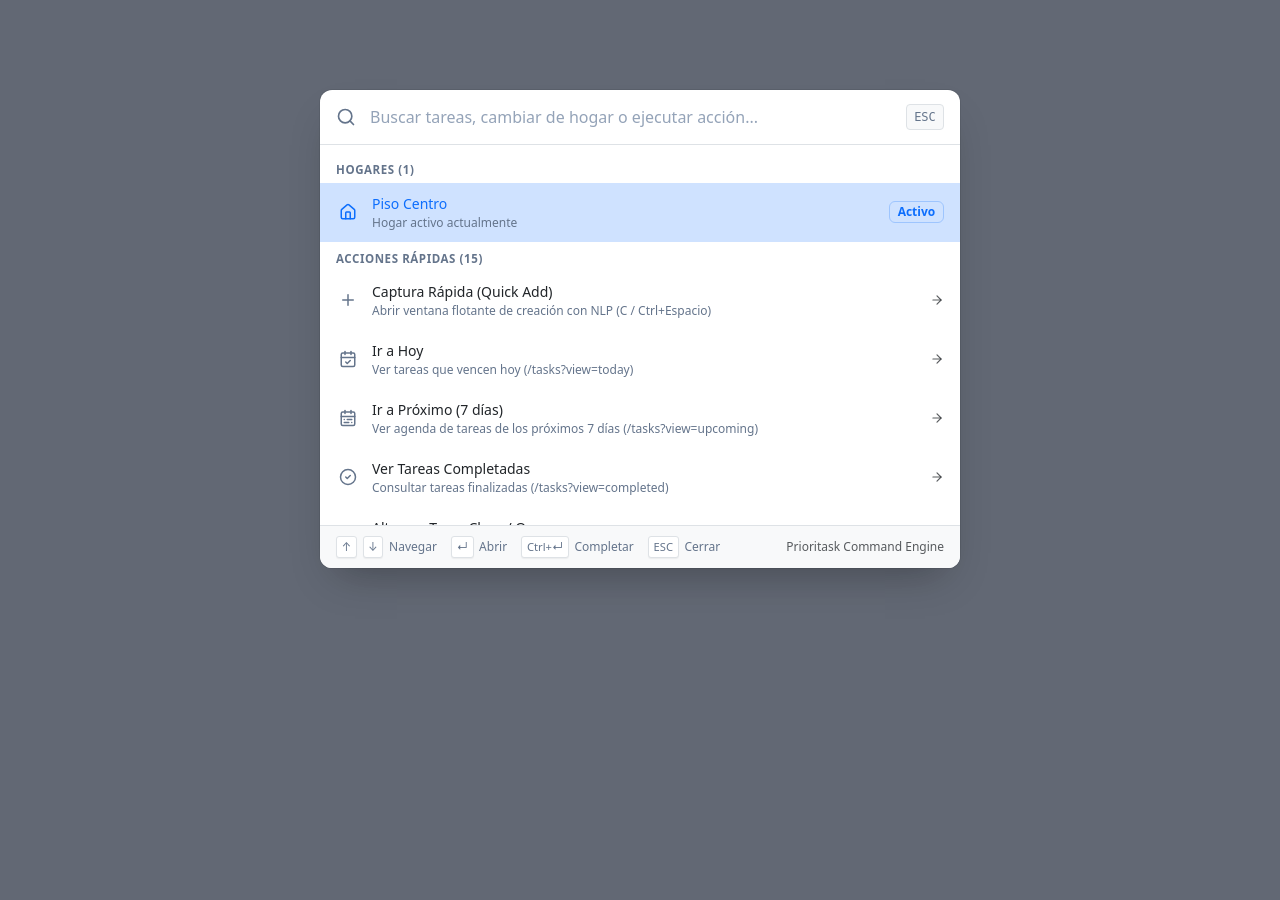
Test: CommandPaletteModal (Multi-Tier Instant Search & LRU Cache) › Capa 2: debe reutilizar resultados cacheados en LRU para evitar esperas repetidas
Type "bombilla" into the field with placeholder "Buscar tareas, cambiar de hogar o ejecutar acción..." at (631, 117), box [368,104,894,130]
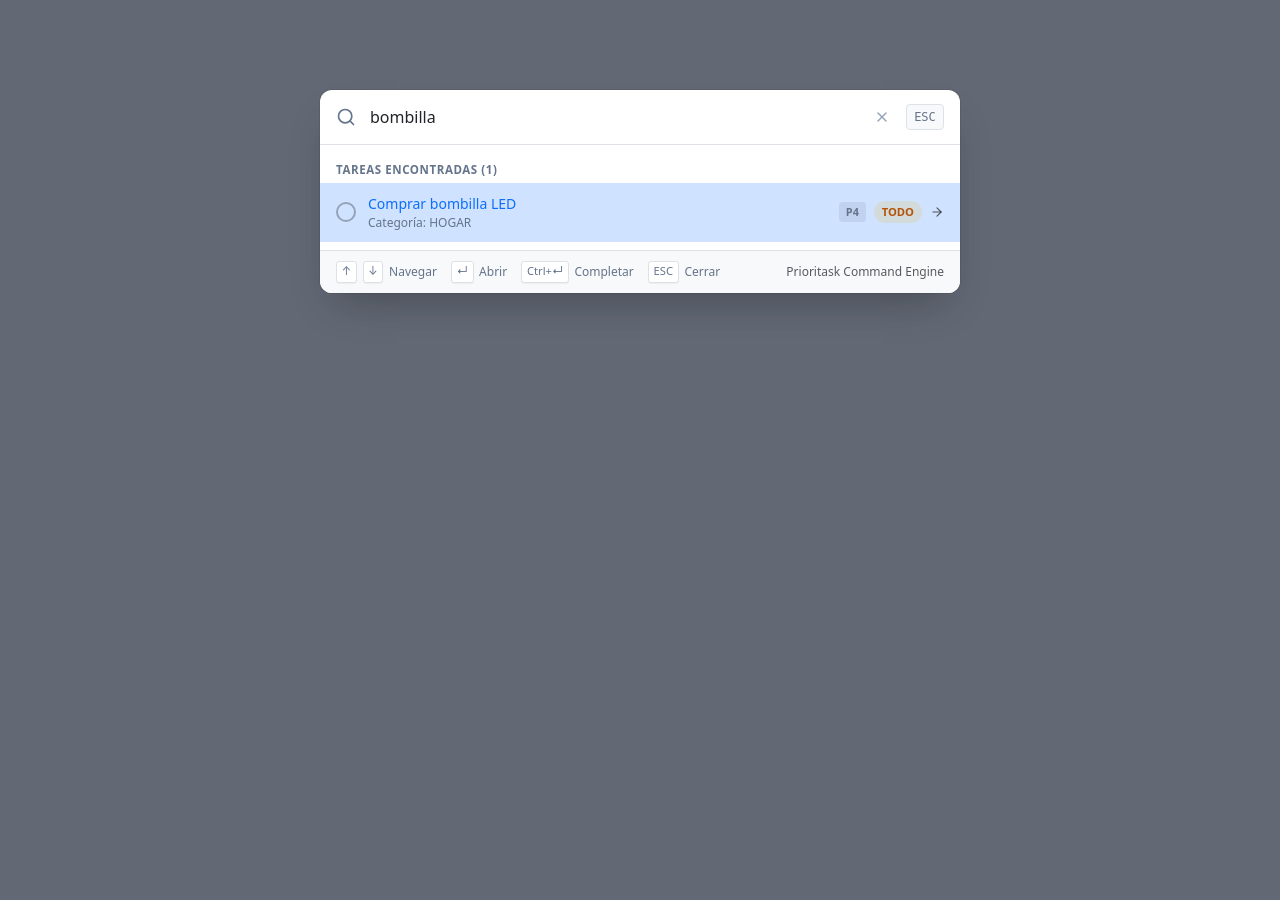
Check: the text "Comprar bombilla LED" is shown, box [368,193,516,214]
